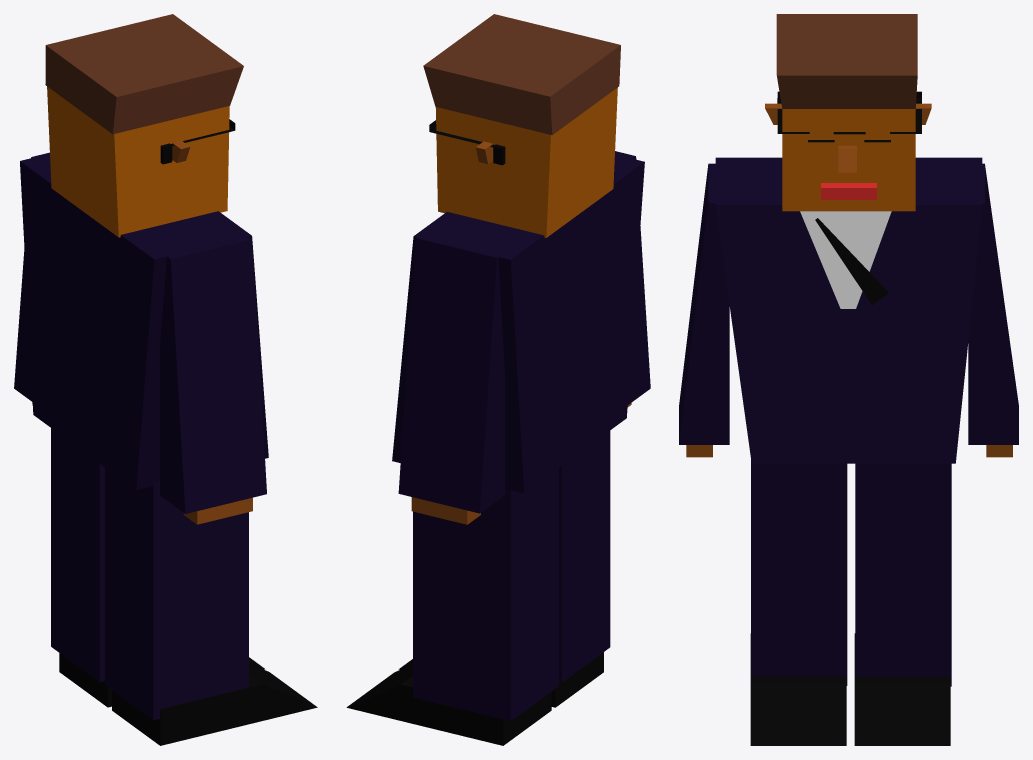
Rendered from Human.fbx.
The picture shows the model from 3 angles, left to right: view 1: azimuth 30°, elevation 25°; view 2: azimuth 150°, elevation 25°; view 3: azimuth 270°, elevation 25°; orthographic projection.
Parts seen in each view (by area): view 1: Garnitur, Prawa noga, Prawe ramie, Głowa, Włosy, Lewa noga, Stopa prawa, Lewe ramie, Stopa lewa, Dłoń prawa; view 2: Garnitur, Lewa noga, Lewe ramie, Głowa, Włosy, Prawa noga, Stopa lewa, Prawe ramie, Stopa prawa, Dłoń lewa, Okulary; view 3: Garnitur, Prawa noga, Lewa noga, Włosy, Głowa, Prawe ramie, Lewe ramie, Stopa prawa, Stopa lewa, Koszula, Krawat, Usta (+1 smaller).
Part boxes in pixels (x1,y1,x2,y2): Garnitur: (20,153,268,490); Prawa noga: (105,467,248,720); Prawe ramie: (160,236,266,513); Głowa: (47,86,229,237); Włosy: (45,14,243,134); Lewa noga: (51,428,104,682); Stopa prawa: (112,663,317,745); Lewe ramie: (14,152,49,401); Stopa lewa: (59,653,265,707); Dłoń prawa: (183,497,252,524); Garnitur: (392,154,644,493); Lewa noga: (413,468,558,721); Lewe ramie: (398,237,505,513); Głowa: (435,87,617,237); Włosy: (423,14,620,134); Prawa noga: (559,430,610,682); Stopa lewa: (346,664,551,745); Prawe ramie: (615,151,650,404); Stopa prawa: (398,652,603,707); Dłoń lewa: (411,497,480,524); Okulary: (429,120,505,165); Garnitur: (715,157,982,463); Prawa noga: (751,460,847,685); Lewa noga: (855,463,951,686); Włosy: (776,14,917,108); Głowa: (782,109,915,211); Prawe ramie: (679,163,729,444); Lewe ramie: (968,163,1018,444); Stopa prawa: (750,633,846,745); Stopa lewa: (854,633,950,745); Koszula: (800,211,891,308); Krawat: (815,218,888,305); Usta: (821,183,876,199).
Size of the model in its own units: 162 by 530 by 255.
